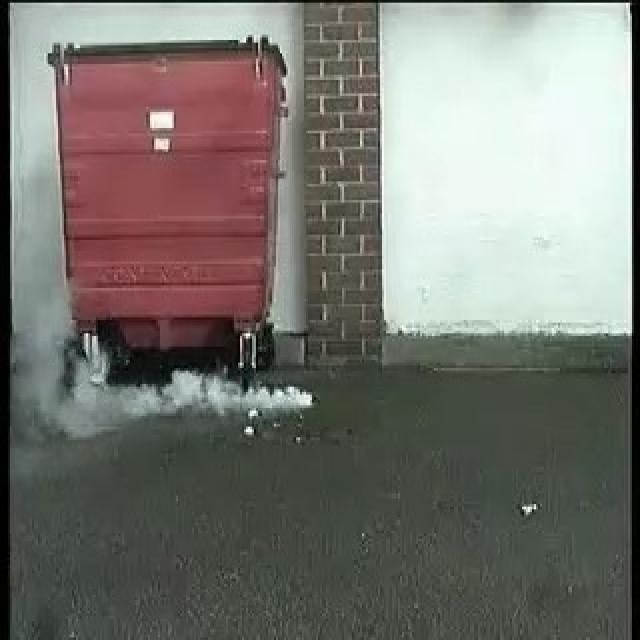smoke: (41, 370, 312, 433)
